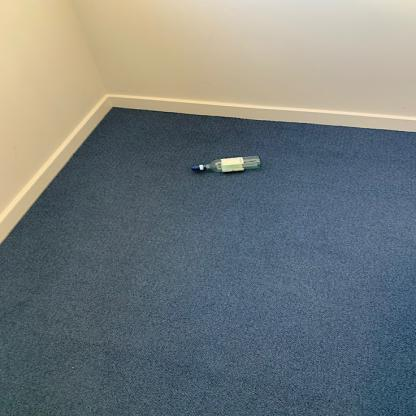trash: (189, 155, 264, 175)
